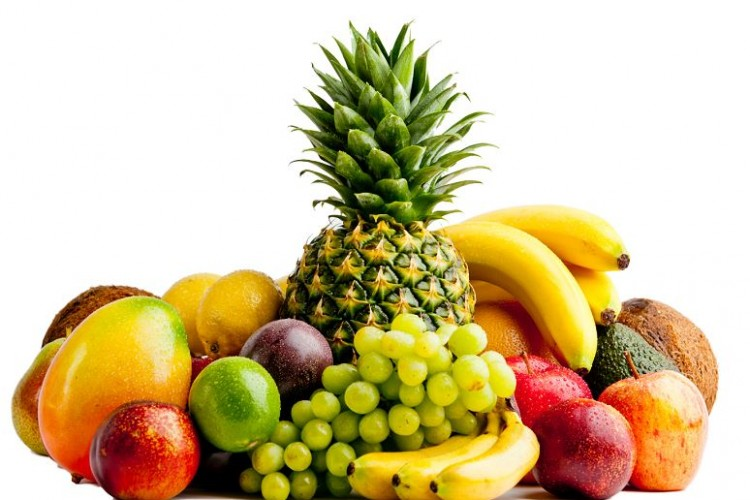banana: (449, 223, 578, 311), (425, 420, 542, 500), (511, 207, 638, 274), (523, 284, 600, 371), (344, 458, 392, 496), (388, 458, 427, 495)
